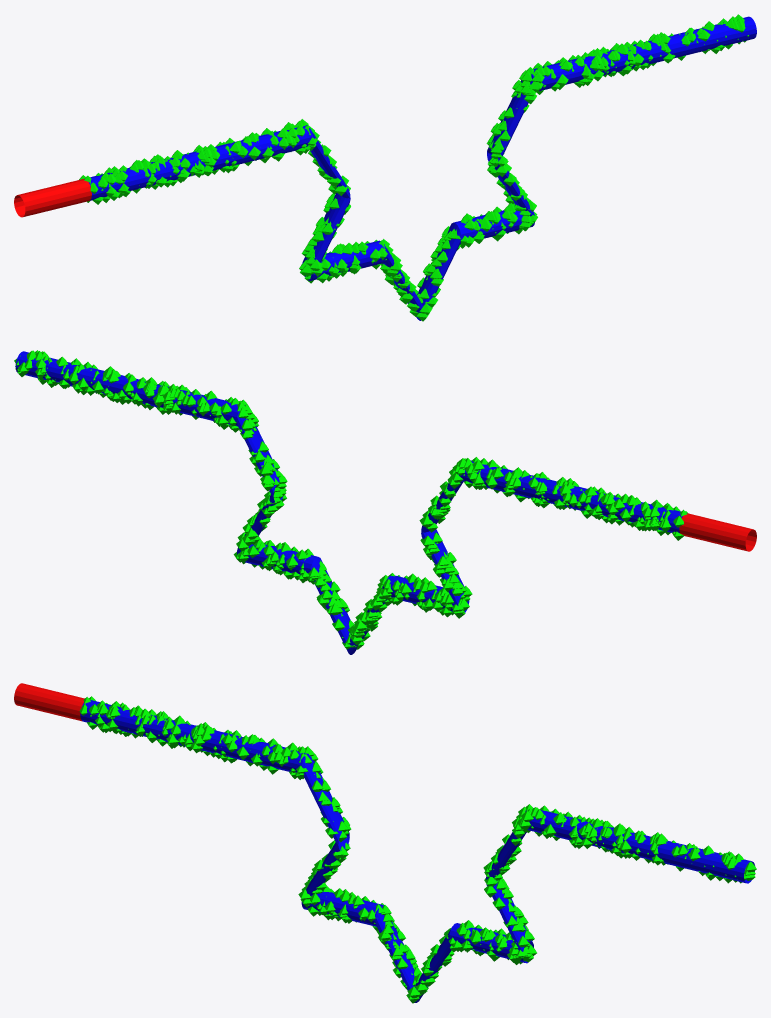
Rendered from try_0.obj.
3 renders of one model, top to bottom at view 1: azimuth 30°, elevation 25°; view 2: azimuth 150°, elevation 25°; view 3: azimuth 330°, elevation 25°, orthographic.
Visible parts, largest first — view 1: material_g, material_b, material_r; view 2: material_g, material_b, material_r; view 3: material_g, material_b, material_r.
Part boxes in pixels (x1,y1,x2,y2): material_g: [79, 14, 748, 321]; material_b: [84, 16, 756, 320]; material_r: [14, 179, 91, 217]; material_g: [14, 350, 687, 649]; material_b: [15, 351, 682, 654]; material_r: [679, 513, 756, 551]; material_g: [79, 696, 756, 1003]; material_b: [80, 700, 754, 1002]; material_r: [14, 683, 84, 721].
Bounding box in the file's own units: 1107 × 328 × 49.36.
